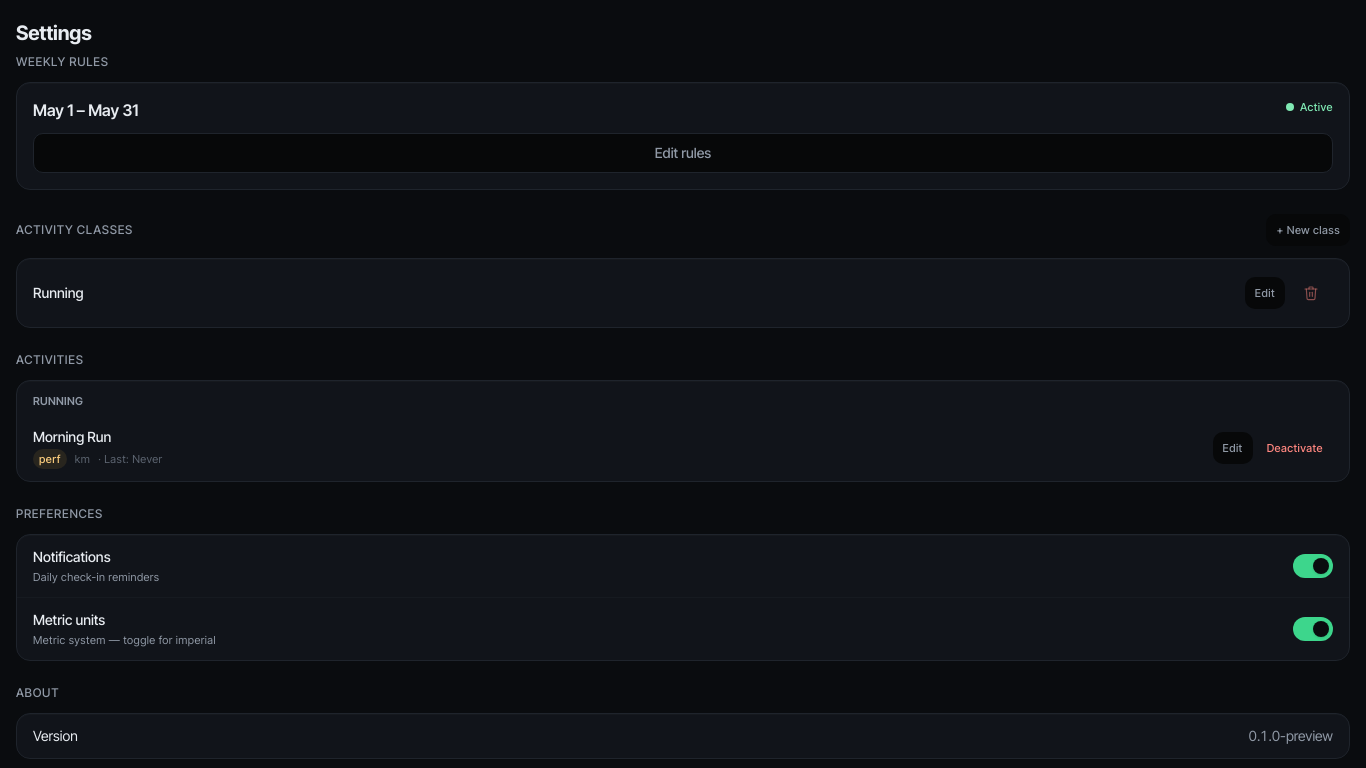
Scenario: SettingsScreen — P25.2 shared centered modal contract › marks dialog panels with data-testid centered-modal-panel across class flows
The image size is (1366, 768).
Click the button "+ New class" at [1308, 230], box [1266,214,1350,246]
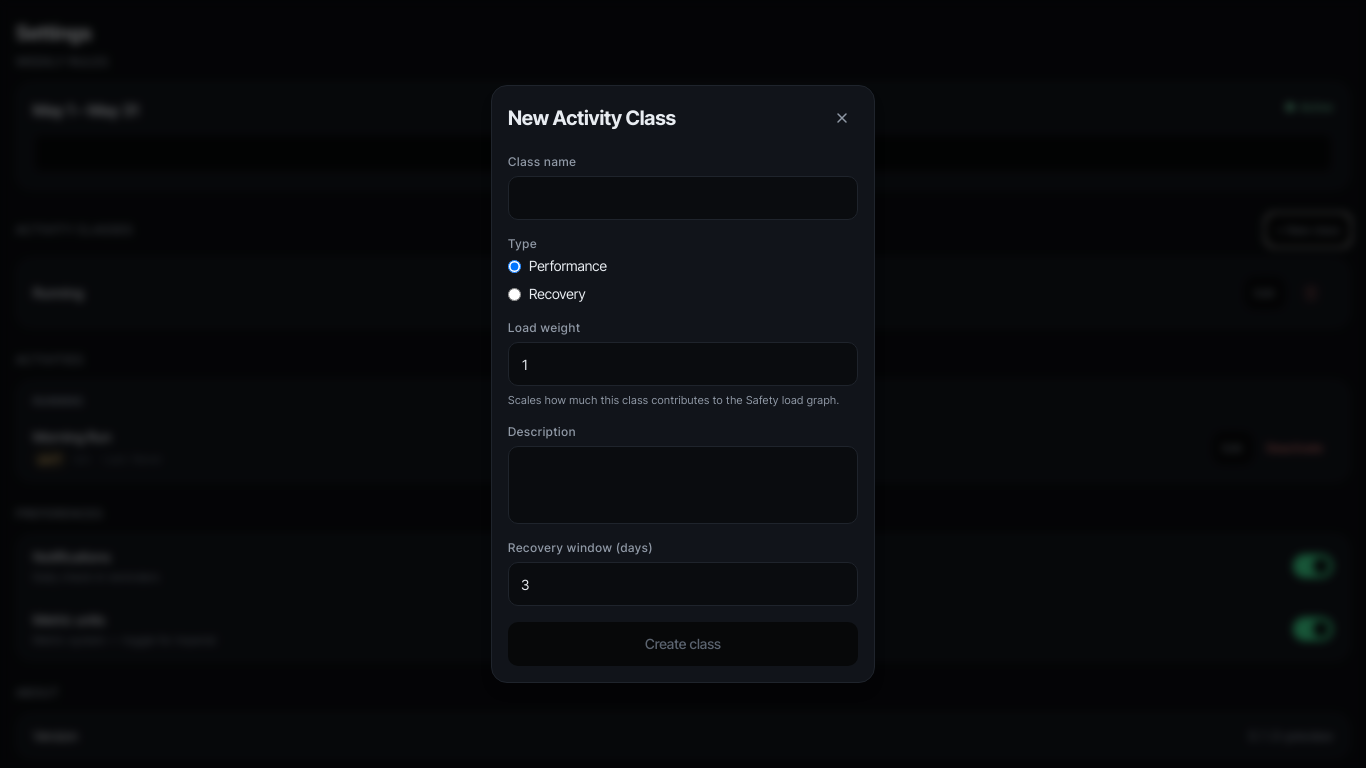
Check: the dialog with test id "centered-modal-panel" is shown, box [491,85,875,683]
Click the button named "close" at [842, 118], box [826,102,858,134]
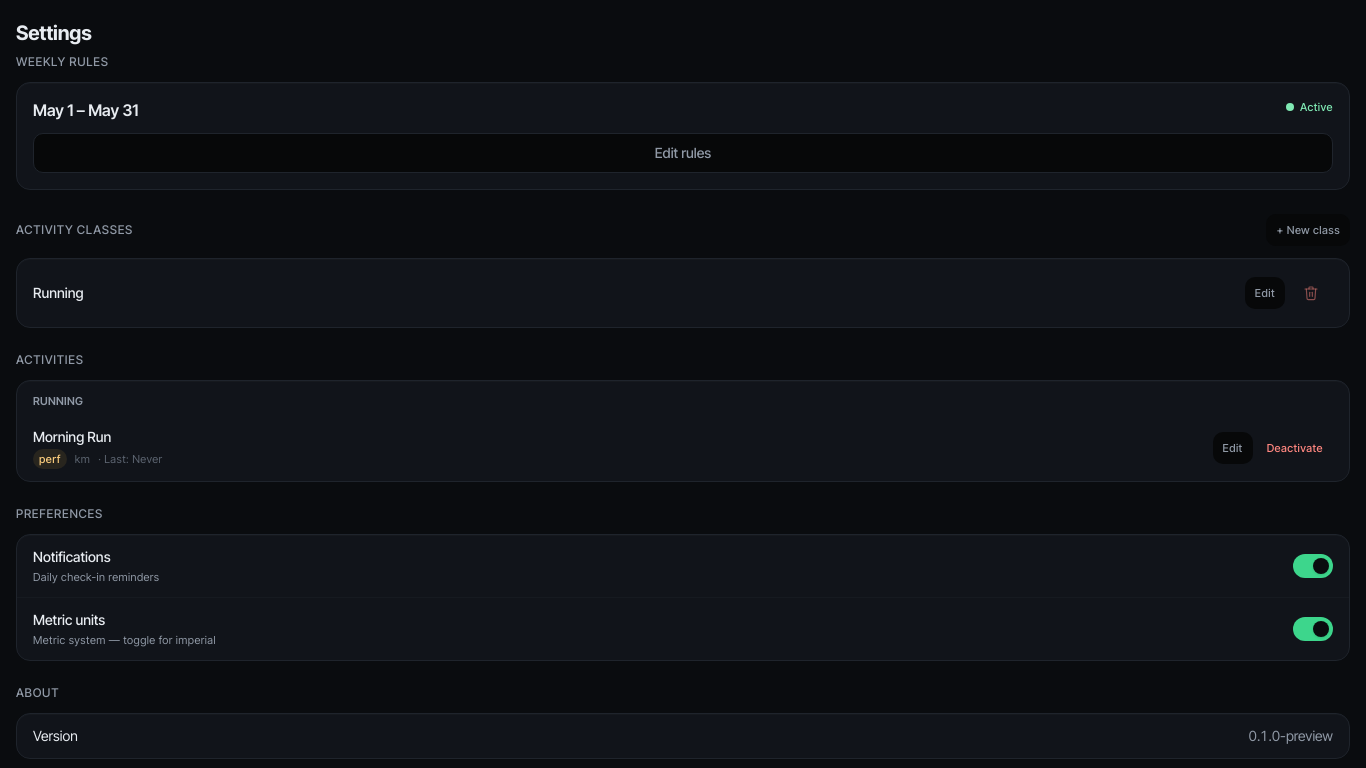
Click the button with aria-label "edit running" at [1265, 293], box [1245,277,1285,309]
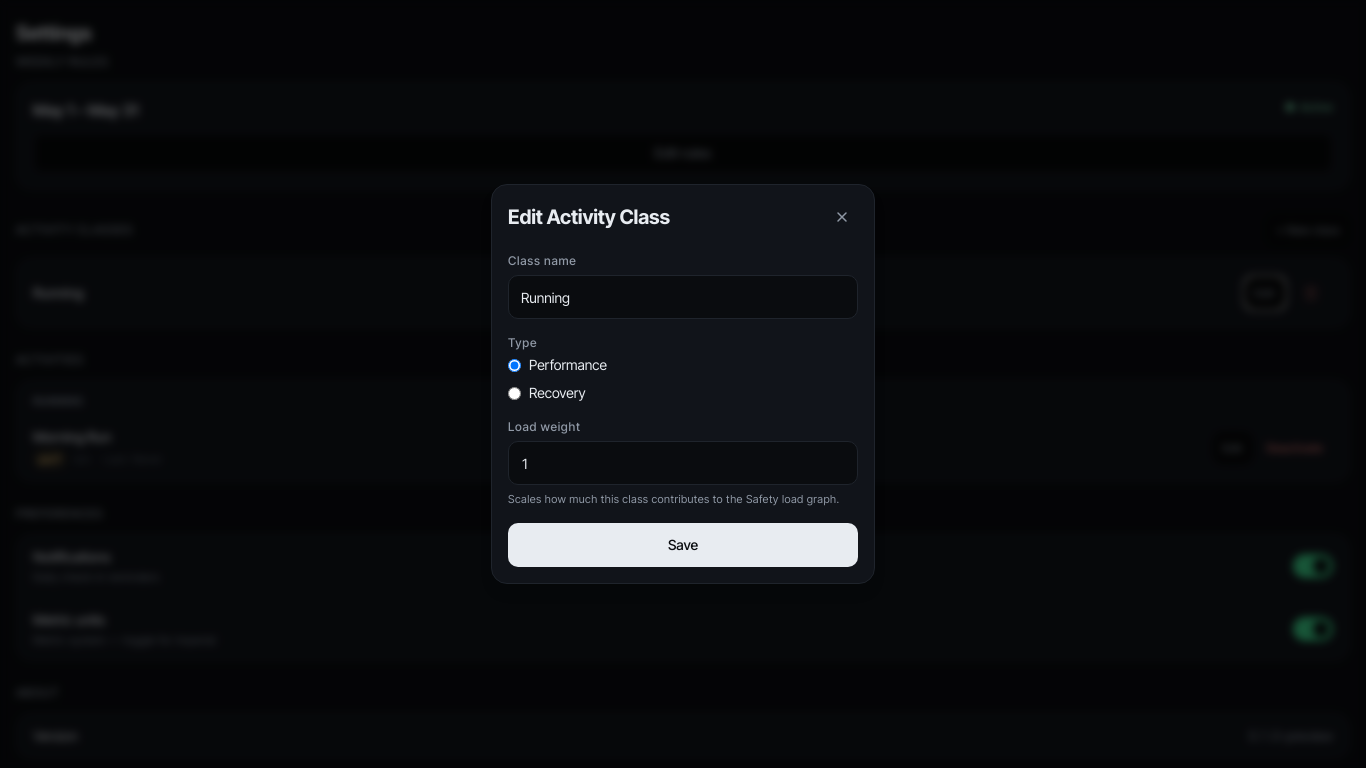
Check: the dialog with test id "centered-modal-panel" is shown, box [491,184,875,584]
Click the button named "close" at [842, 217], box [826,201,858,233]
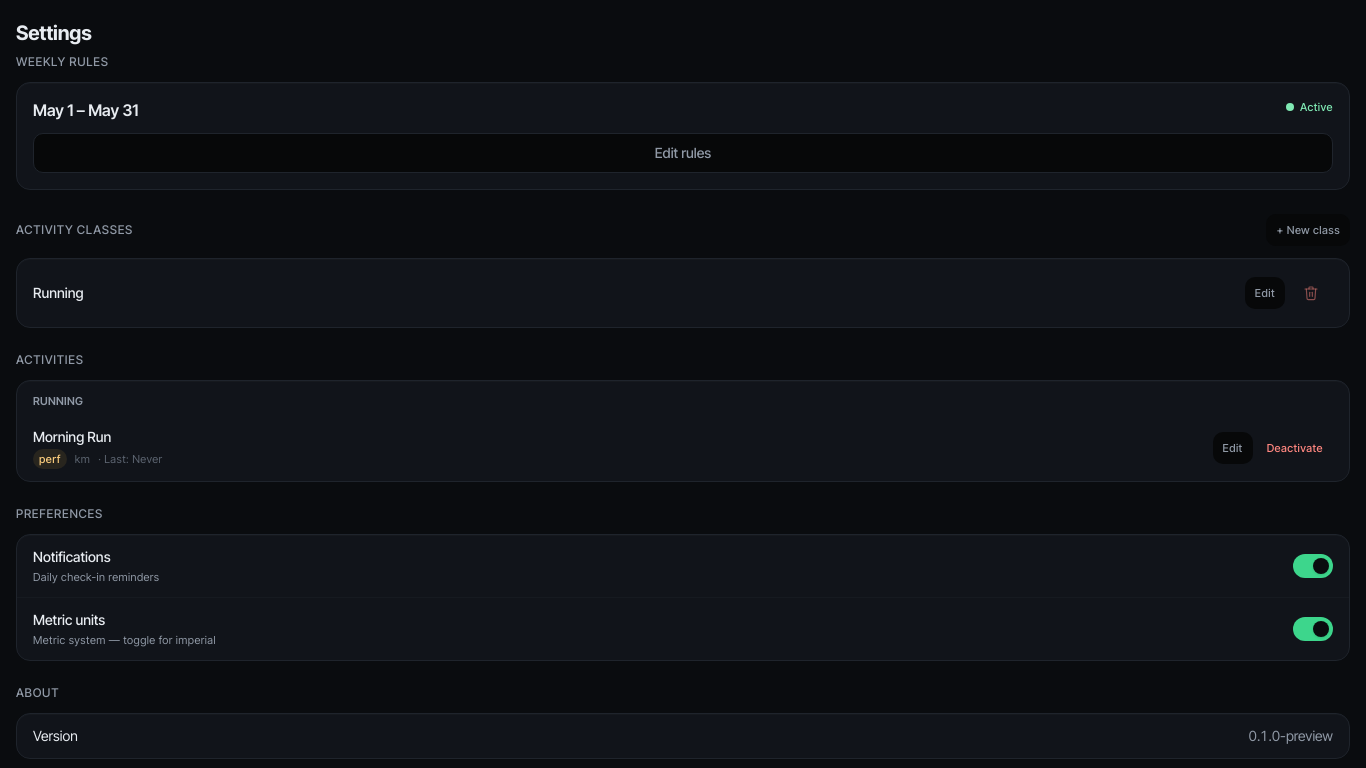
Click the button named "delete running" at [1311, 293], box [1289,271,1333,315]
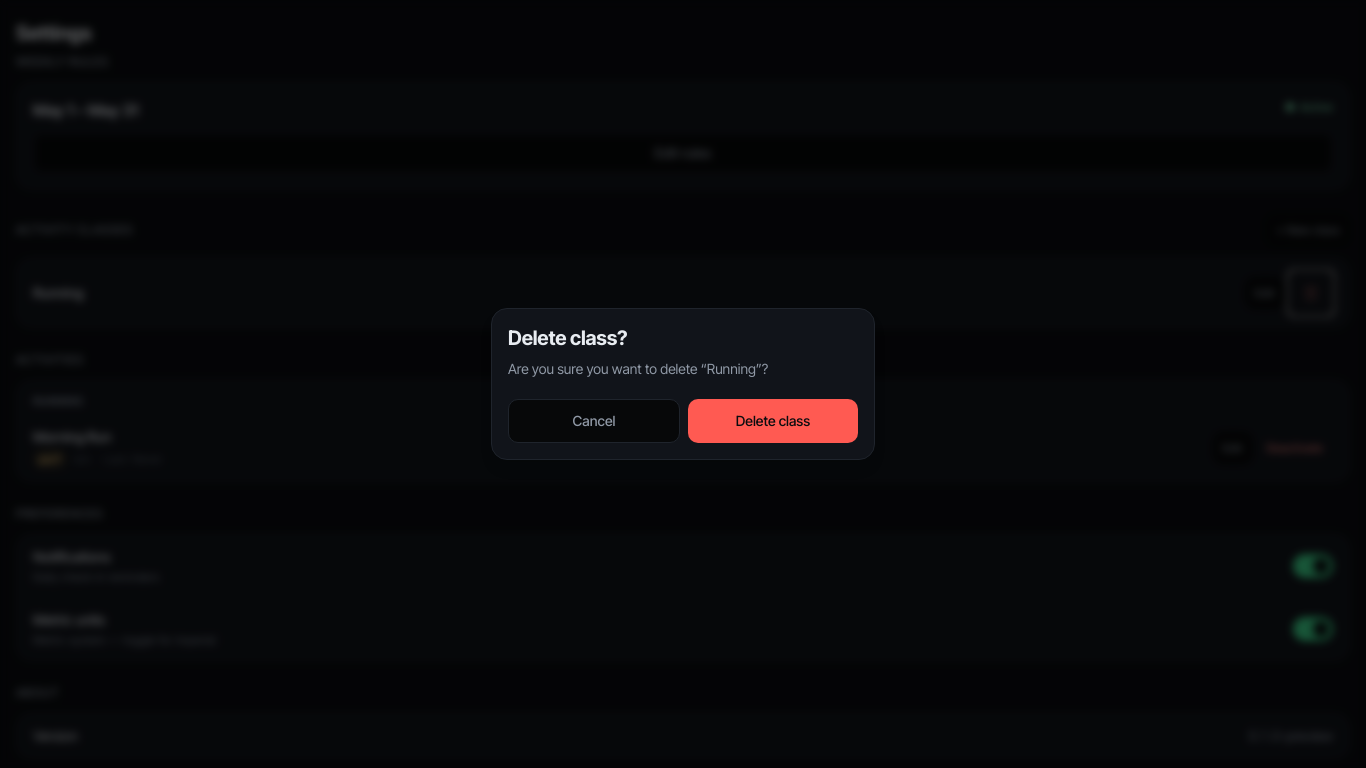
Check: the dialog with test id "centered-modal-panel" is shown, box [491,308,875,460]
